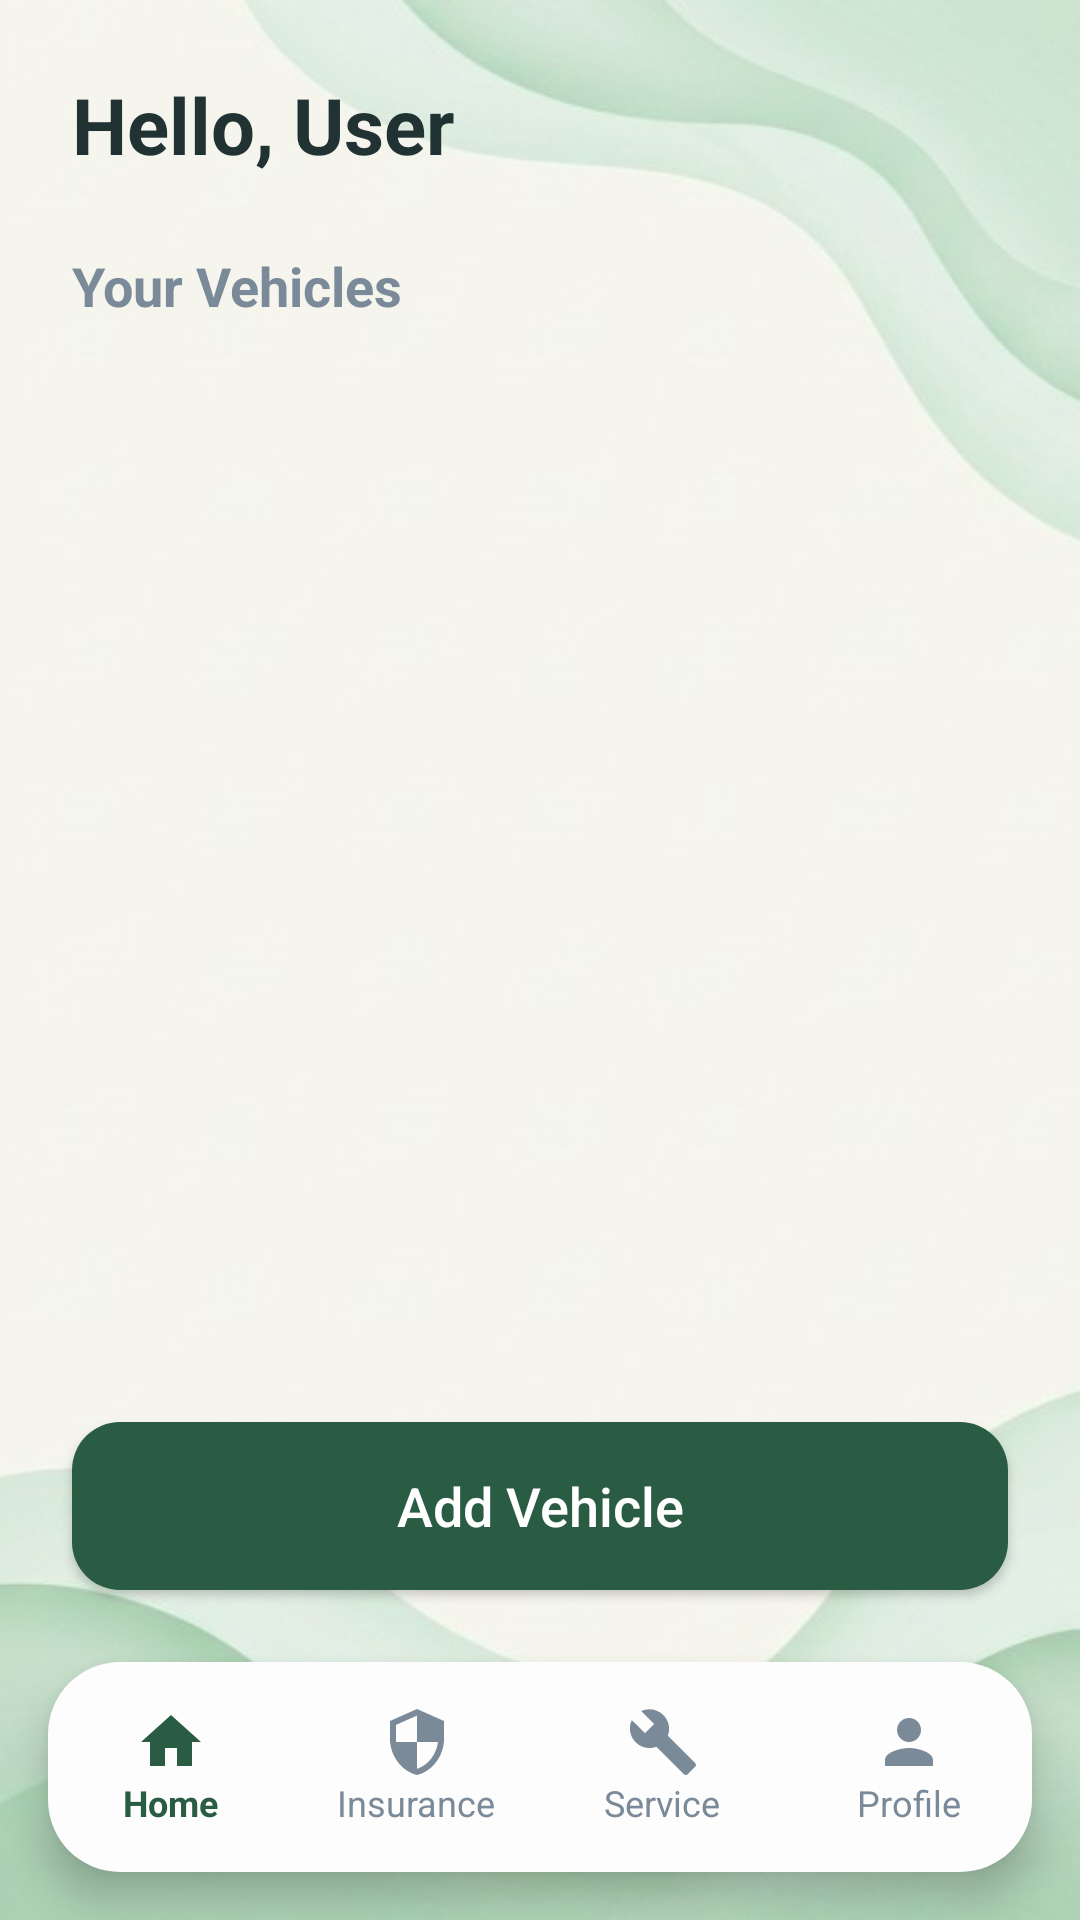

Point at icon controls on the screen. Image size 1080w x 1920h, points as (x=x, y=y).
person: (x=909, y=1742)
